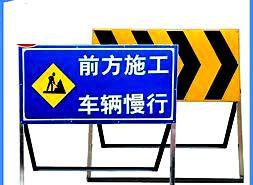sign: (18, 46, 174, 121)
